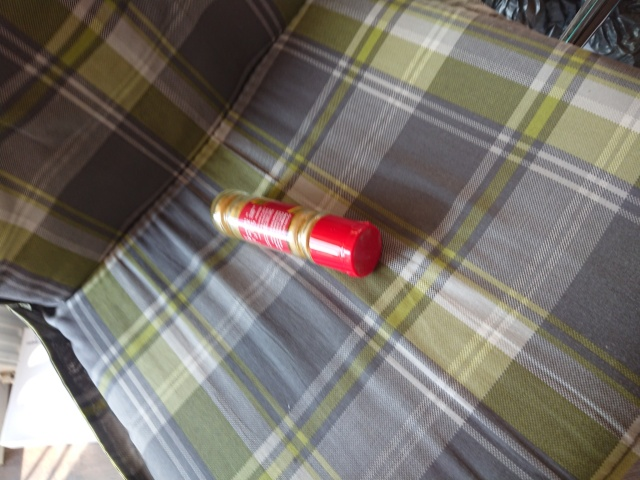Kotanyi Curry Spices Mix 70g: (208, 187, 385, 281)
